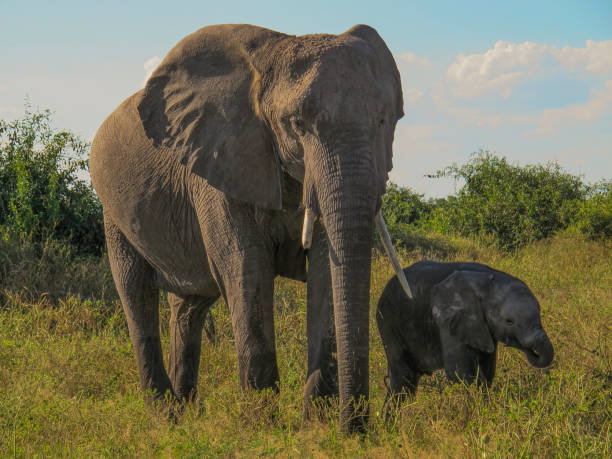africanelephant: (220, 52, 438, 307)
